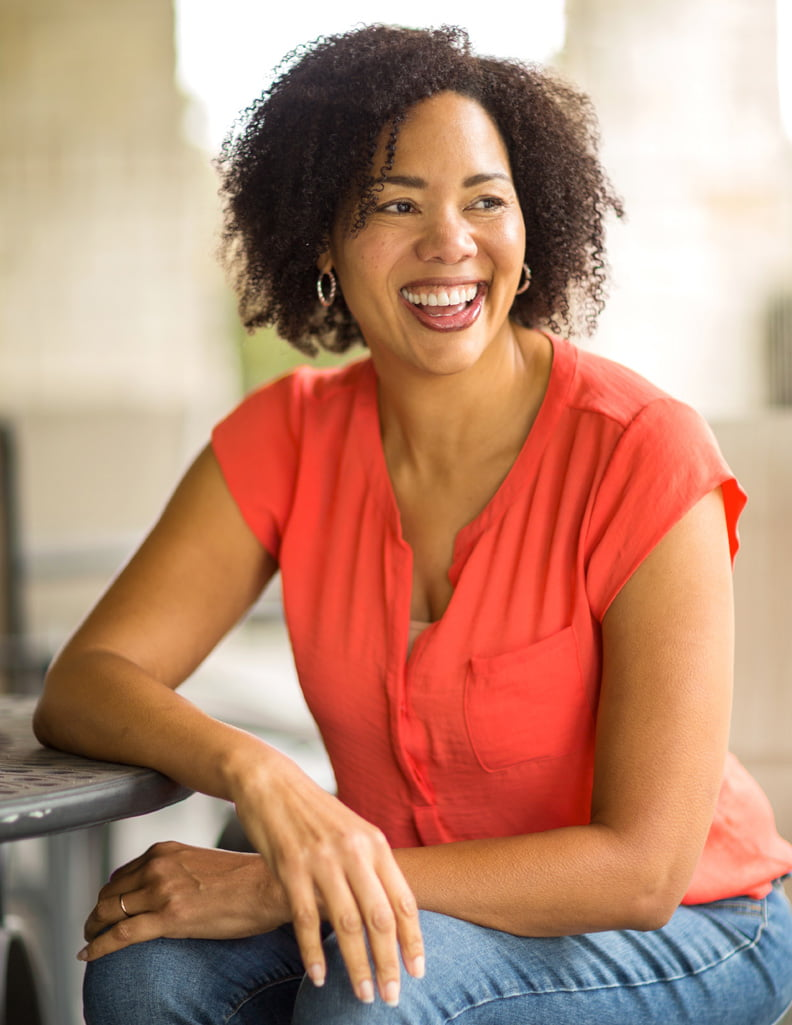Without Helmet: (221, 23, 584, 386)
